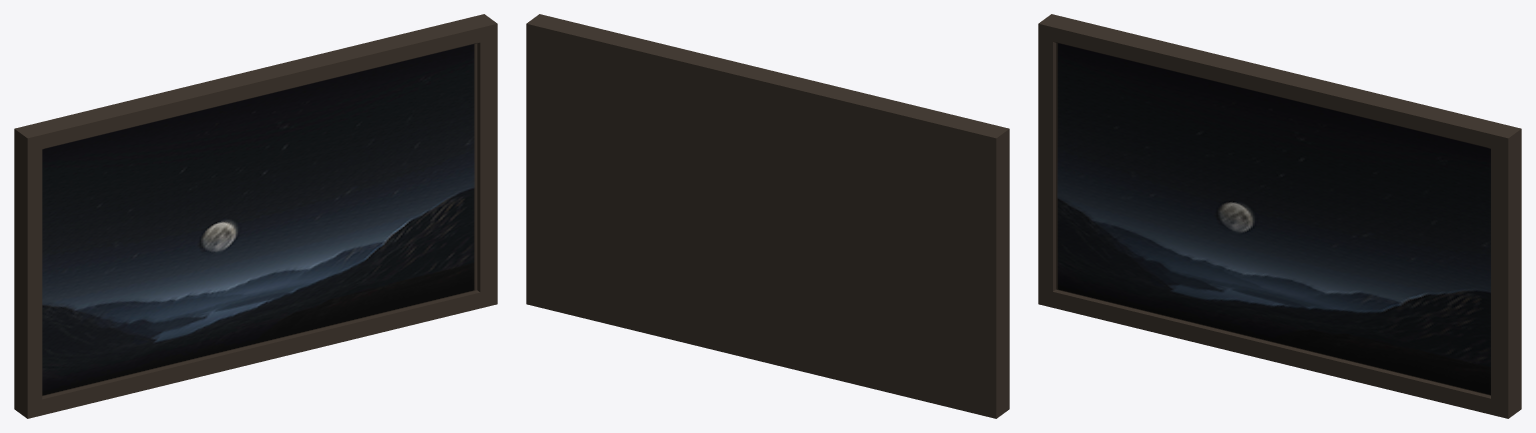
The model's file is lukisan galeri 2.fbx.
3 renders of one model, left to right at view 1: azimuth 30°, elevation 25°; view 2: azimuth 150°, elevation 25°; view 3: azimuth 330°, elevation 25°, orthographic.
Visible parts, largest first — view 1: Cube; view 2: Cube; view 3: Cube.
Boxes of the visible parts, bbox=[...] form: Cube: bbox=[14, 14, 497, 418]; Cube: bbox=[526, 14, 1009, 418]; Cube: bbox=[1038, 14, 1521, 418].
Bounding box in the file's own units: 436 × 249 × 21.32.
Materials: 1 (1 with a texture image).
